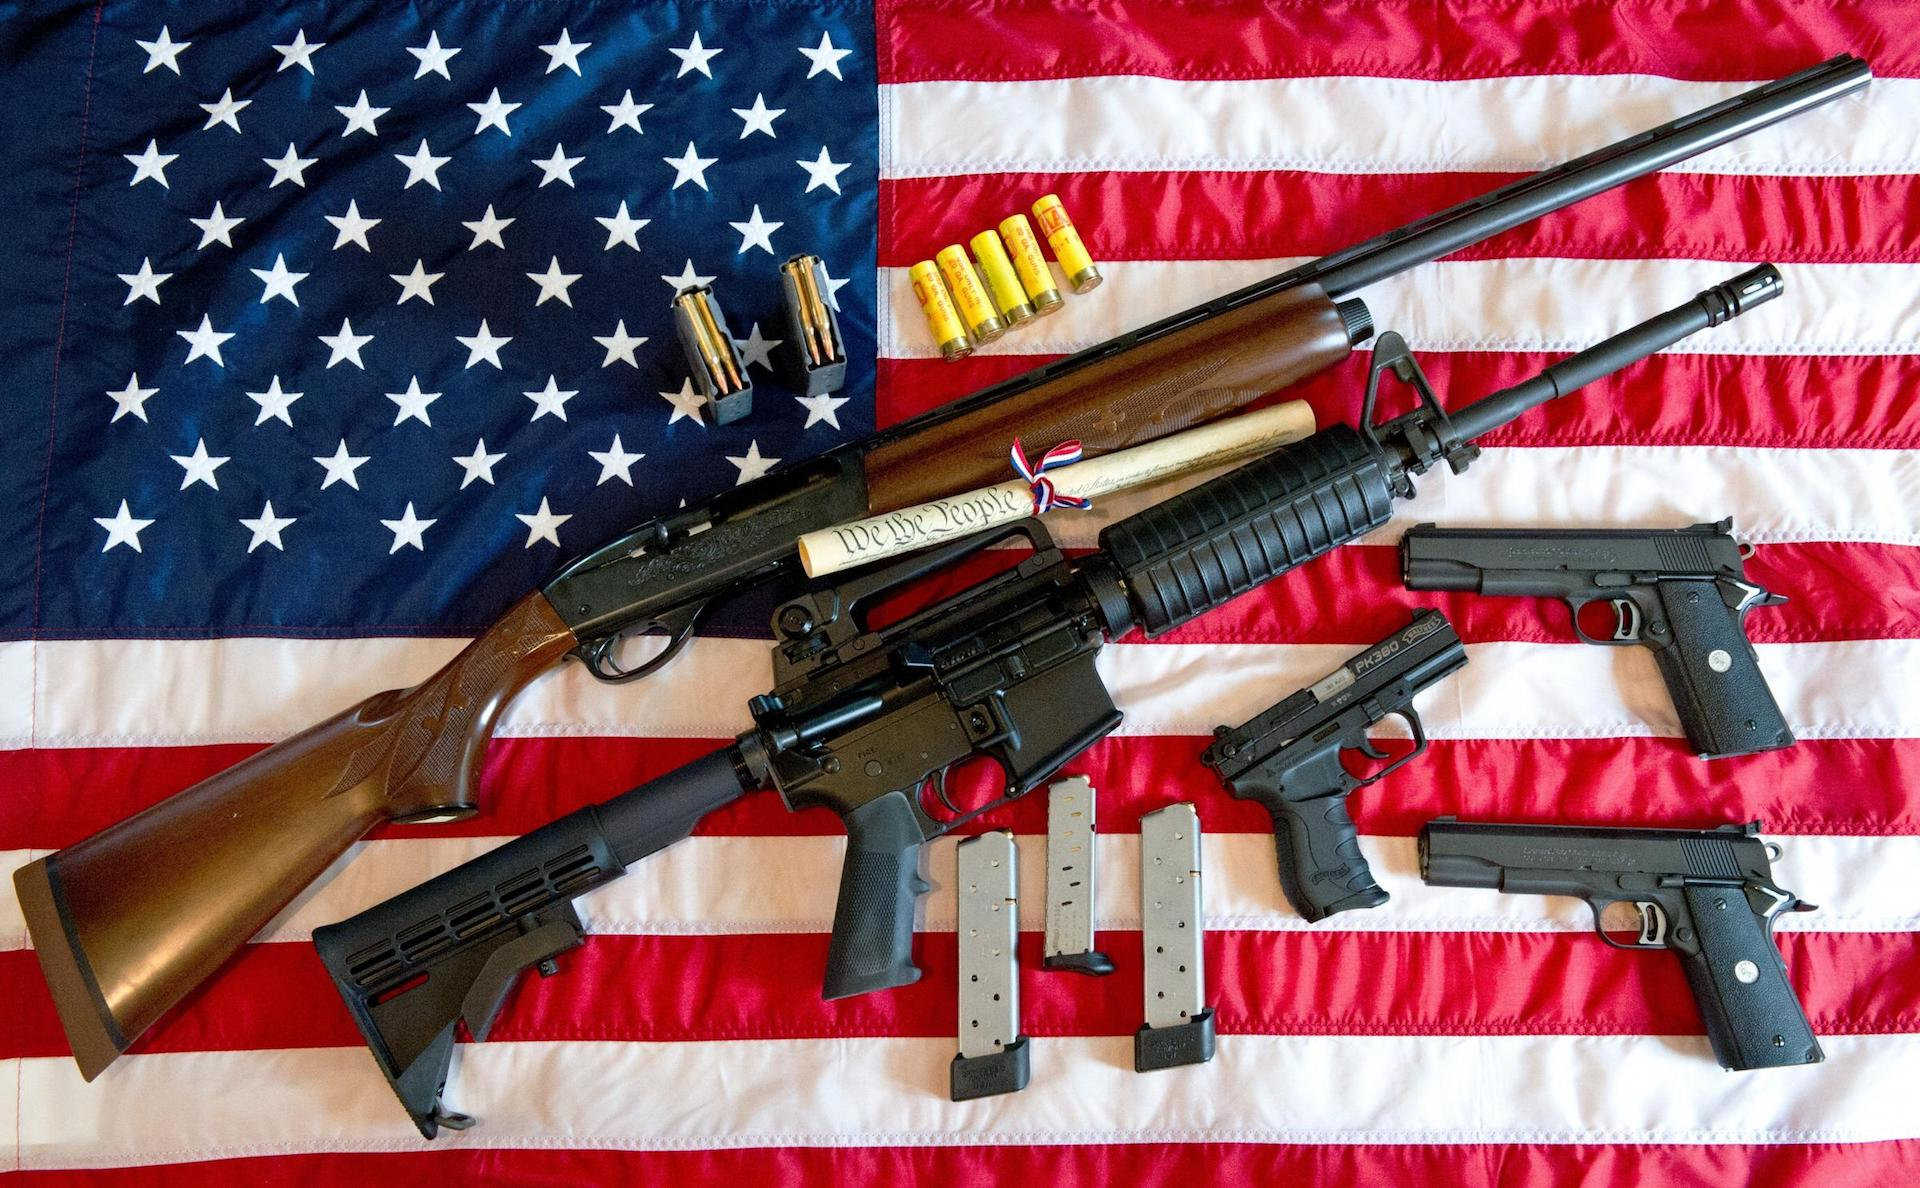pistol: (1418, 813, 1825, 1073), (1402, 514, 1799, 761), (1199, 606, 1469, 925)
